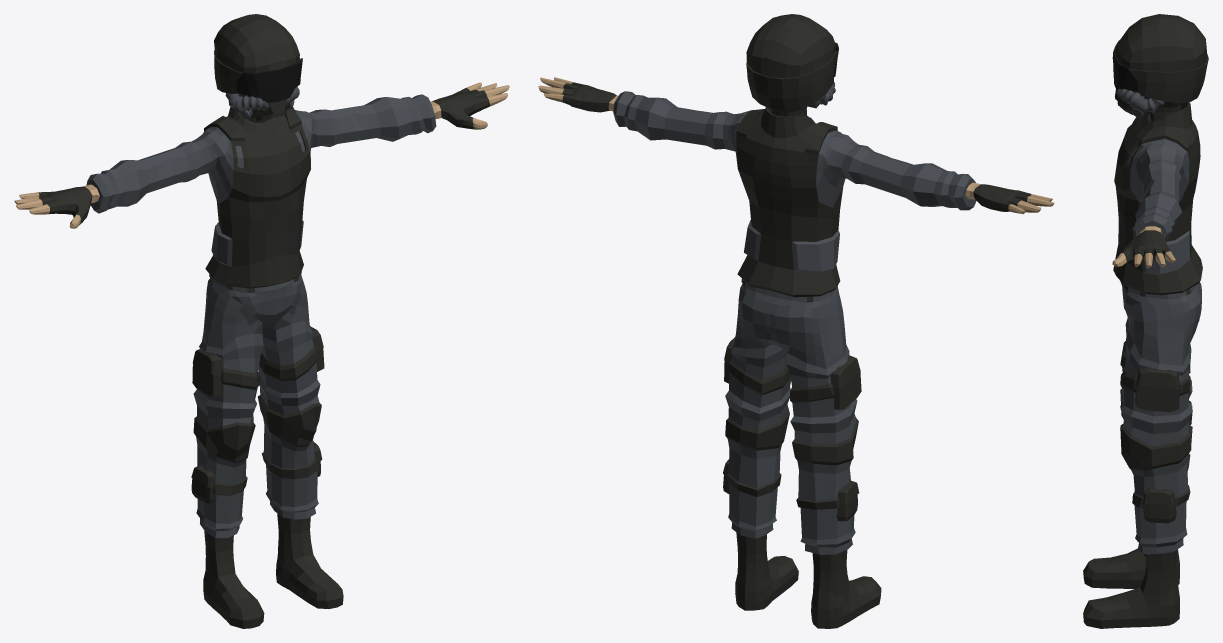
File: swat.glb
3 renders of one model, left to right at view 1: azimuth 30°, elevation 25°; view 2: azimuth 150°, elevation 25°; view 3: azimuth 270°, elevation 25°, orthographic. The views are drawn at different scales.
Visible parts, largest first — view 1: Swat_Legs_cbe279, Swat_Body, Swat_Body_20029e, Swat_Legs_59b4b8, Swat_Feet, Swat_Head_fb4fbf, Swat_Head_0de444, Swat_Body_8f8a42, Swat_Head_f472c5; view 2: Swat_Legs_cbe279, Swat_Body, Swat_Body_20029e, Swat_Legs_59b4b8, Swat_Head_fb4fbf, Swat_Feet, Swat_Body_8f8a42; view 3: Swat_Legs_cbe279, Swat_Body, Swat_Head_fb4fbf, Swat_Feet, Swat_Legs_59b4b8, Swat_Body_20029e, Swat_Head_f472c5, Swat_Body_8f8a42, Swat_Head_0de444.
Part boxes in pixels (x1,y1,x2,y2): Swat_Legs_cbe279: [193, 272, 320, 538]; Swat_Body: [38, 88, 489, 288]; Swat_Body_20029e: [86, 94, 436, 266]; Swat_Legs_59b4b8: [191, 277, 324, 503]; Swat_Feet: [203, 513, 343, 628]; Swat_Head_fb4fbf: [214, 14, 300, 122]; Swat_Head_0de444: [236, 58, 302, 102]; Swat_Body_8f8a42: [14, 82, 509, 228]; Swat_Head_f472c5: [225, 87, 299, 119]; Swat_Legs_cbe279: [725, 279, 857, 554]; Swat_Body: [562, 82, 1031, 297]; Swat_Body_20029e: [613, 91, 976, 272]; Swat_Legs_59b4b8: [723, 281, 861, 521]; Swat_Head_fb4fbf: [746, 14, 836, 116]; Swat_Feet: [735, 532, 881, 628]; Swat_Body_8f8a42: [538, 77, 1054, 214]; Swat_Legs_cbe279: [1120, 281, 1201, 554]; Swat_Body: [1113, 102, 1202, 295]; Swat_Head_fb4fbf: [1115, 14, 1208, 121]; Swat_Feet: [1083, 548, 1179, 628]; Swat_Legs_59b4b8: [1120, 286, 1192, 523]; Swat_Body_20029e: [1128, 138, 1189, 274]; Swat_Head_f472c5: [1117, 89, 1164, 117]; Swat_Body_8f8a42: [1112, 57, 1176, 268]; Swat_Head_0de444: [1113, 40, 1138, 91].
Size of the model in its own units: 1.68 by 1.85 by 0.3617.
